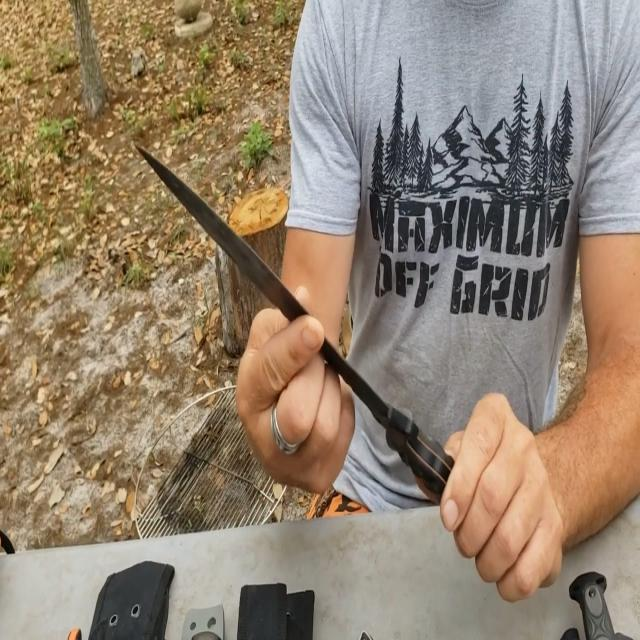knife: (133, 107, 459, 497)
